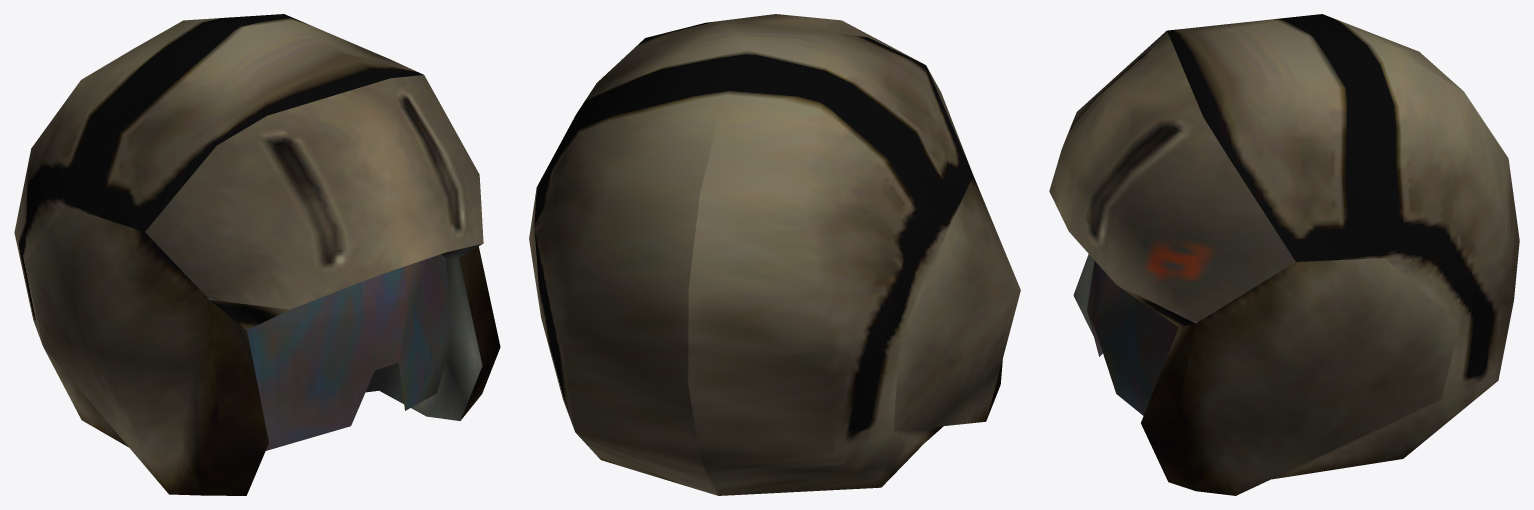
The model's file is cinhelm.glb.
3 views of the same model, side by side, from view 1: azimuth 30°, elevation 25°; view 2: azimuth 150°, elevation 25°; view 3: azimuth 270°, elevation 25° (orthographic). The views are drawn at different scales.
Parts seen in each view (by area): view 1: _cinhelm_h; view 2: _cinhelm_h; view 3: _cinhelm_h.
Boxes of the visible parts, x1,y1,x2,y2 form: _cinhelm_h: (14,14,500,495); _cinhelm_h: (529,14,1020,495); _cinhelm_h: (1049,14,1519,495).
Size of the model in its own units: 0.2934 by 0.2603 by 0.288.
Materials: 1 (1 with a texture image).
